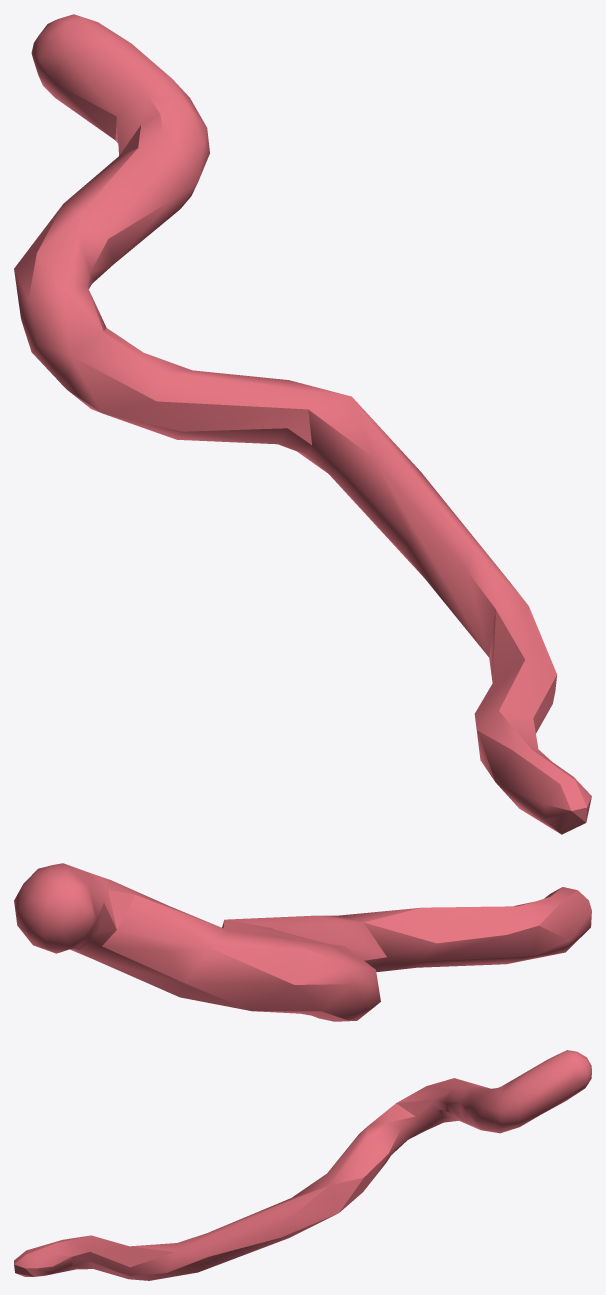
Rendered from fma3837_fj2719.glb.
3 views of the same model, one above another, from view 1: azimuth 30°, elevation 25°; view 2: azimuth 150°, elevation 25°; view 3: azimuth 270°, elevation 25° (orthographic). The views are drawn at different scales.
Visible parts, largest first — view 1: FMA3837_FJ2719; view 2: FMA3837_FJ2719; view 3: FMA3837_FJ2719.
Boxes of the visible parts, bbox=[...] form: FMA3837_FJ2719: bbox=[14, 14, 591, 834]; FMA3837_FJ2719: bbox=[14, 863, 591, 1021]; FMA3837_FJ2719: bbox=[14, 1050, 591, 1280].
Size of the model in its own units: 0.00357 by 0.00536 by 0.0121.
